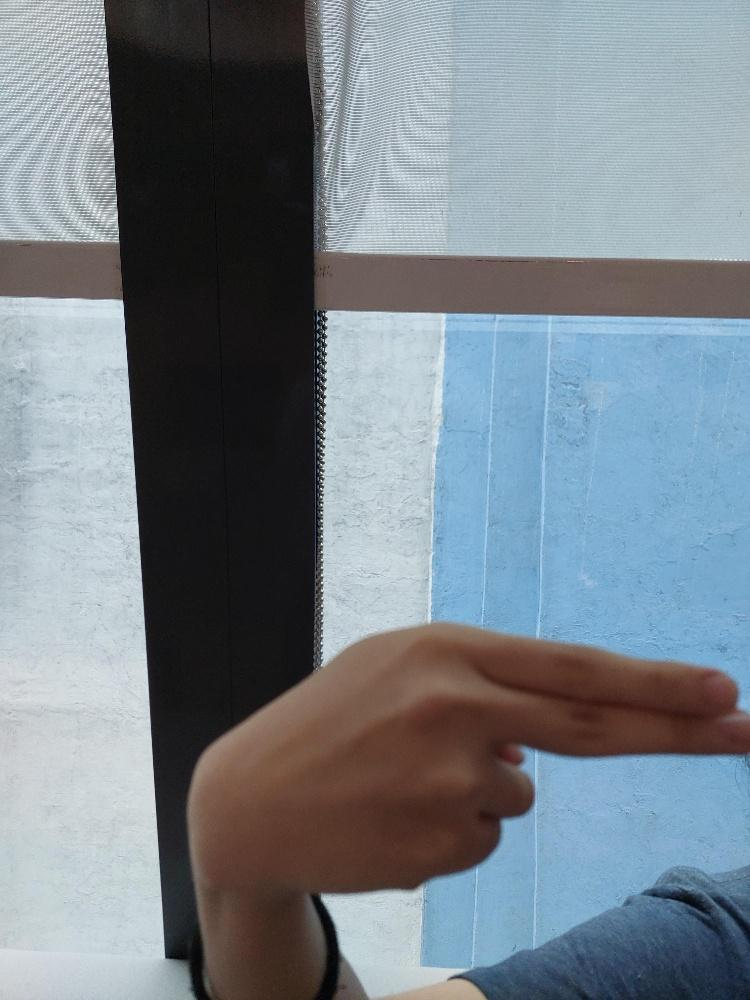h: (188, 618, 749, 897)
